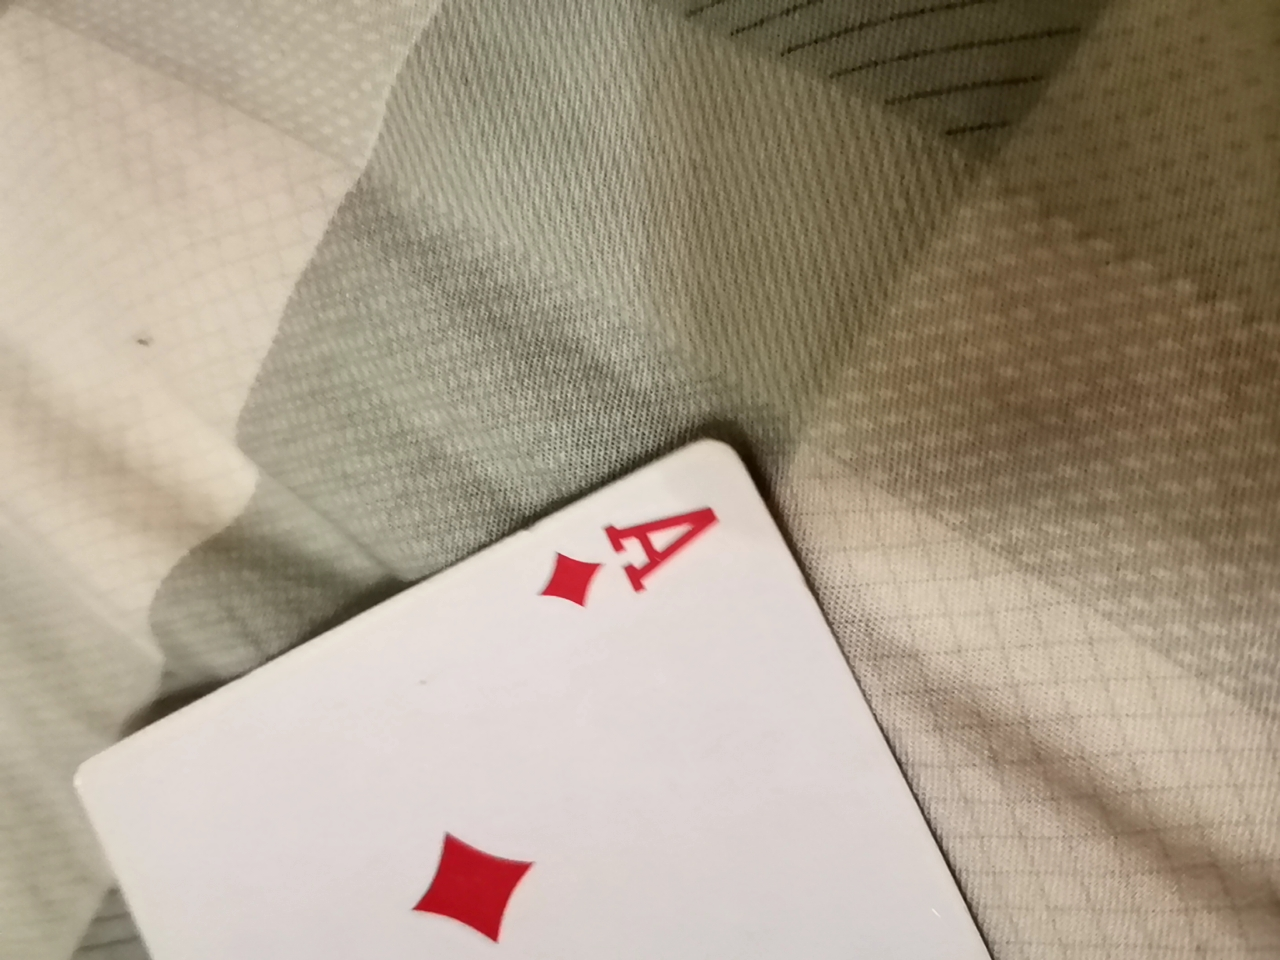fk a: (77, 453, 1042, 953)
